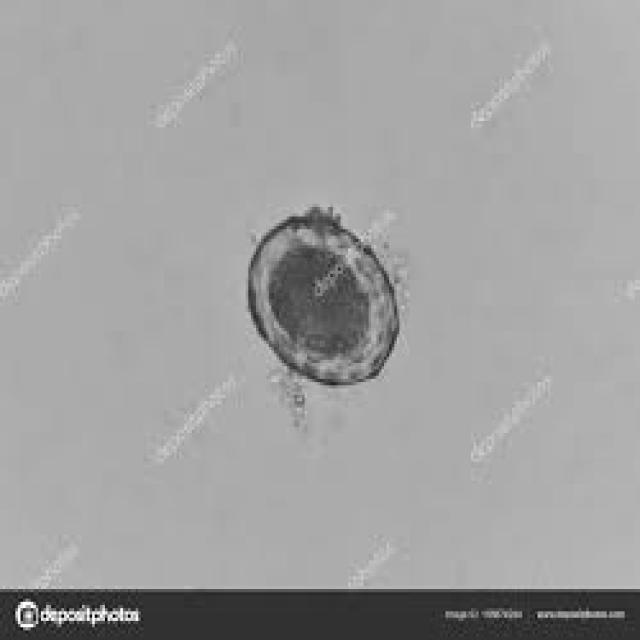Ascaris Lumbricoides: (244, 208, 408, 400)
